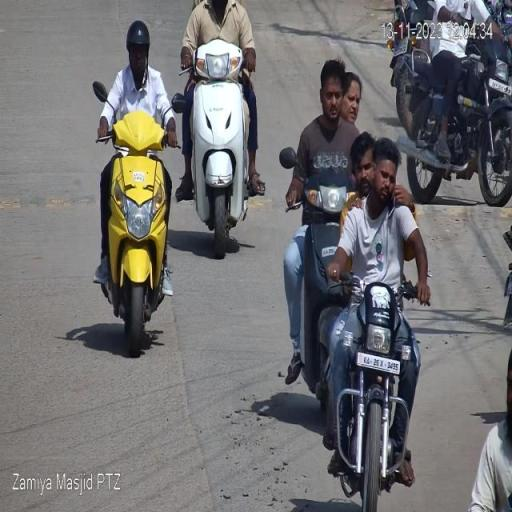numberplate: (356, 348, 402, 374)
using mobile: (380, 177, 400, 222)
